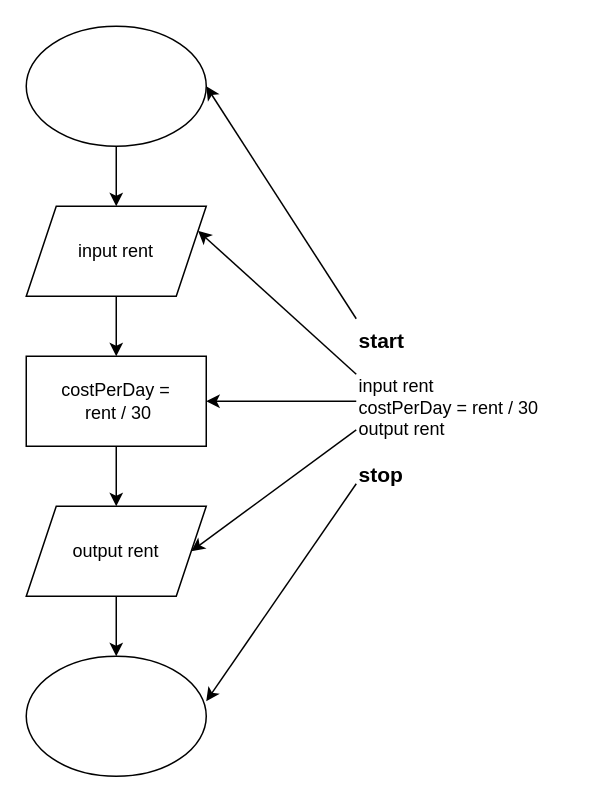
Some shapes in this 608 by 803 pixel diagram are drawn without their labels. Each missing label, with the centre of its shape:
"Start" goes at pixel 115 85.
"Stop" goes at pixel 115 715.
